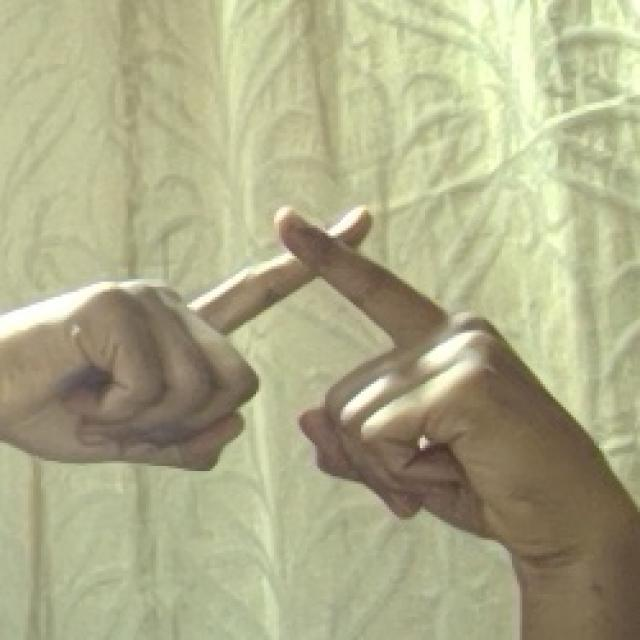Alphabet-X: (0, 193, 599, 549)
